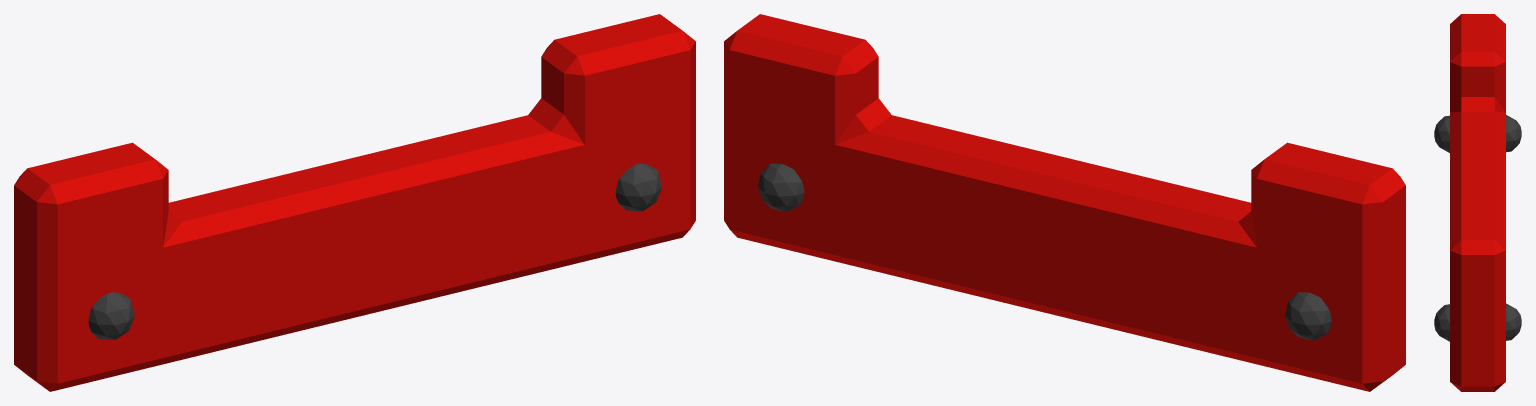
File: BarBracketC.fbx
The picture shows the model from 3 angles, left to right: view 1: azimuth 30°, elevation 25°; view 2: azimuth 150°, elevation 25°; view 3: azimuth 270°, elevation 25°; orthographic projection. The views are drawn at different scales.
Parts seen in each view (by area): view 1: BarC; view 2: BarC; view 3: BarC.
Part boxes in pixels (left/top/right/bottom): BarC: left=14, top=14, right=695, bottom=391; BarC: left=724, top=14, right=1405, bottom=391; BarC: left=1434, top=14, right=1521, bottom=391.
Bounding box in the file's own units: 1000 × 300 × 157.
